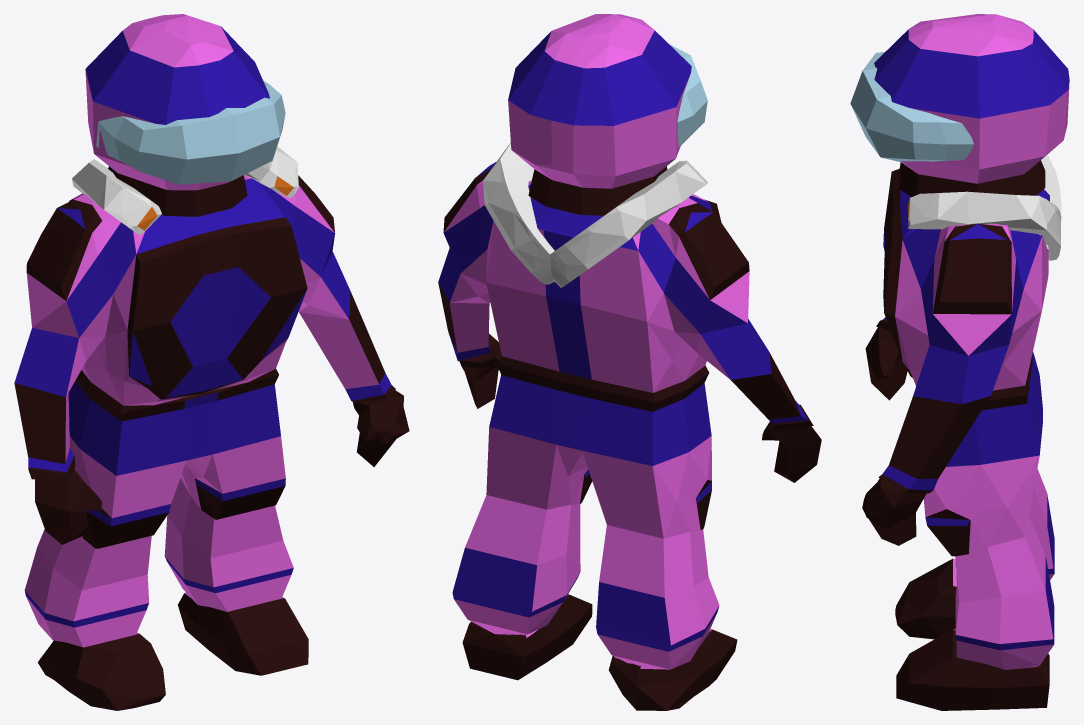
Rendered from RescueCharakter3.fbx.
3 renders of one model, left to right at view 1: azimuth 30°, elevation 25°; view 2: azimuth 150°, elevation 25°; view 3: azimuth 270°, elevation 25°, orthographic.
Visible parts, largest first — view 1: Body, Visor, Headlamp1; view 2: Body, Headlamp1, Visor; view 3: Body, Visor, Headlamp1.
Boxes of the visible parts, x1,y1,x2,y2 form: Body: (14, 14, 409, 710); Visor: (96, 80, 285, 184); Headlamp1: (72, 146, 298, 234); Body: (438, 14, 821, 710); Headlamp1: (483, 142, 707, 287); Visor: (669, 44, 707, 148); Body: (862, 14, 1069, 710); Visor: (850, 52, 973, 162); Headlamp1: (907, 154, 1061, 260).
Bounding box in the file's own units: 376 × 625 × 193.
